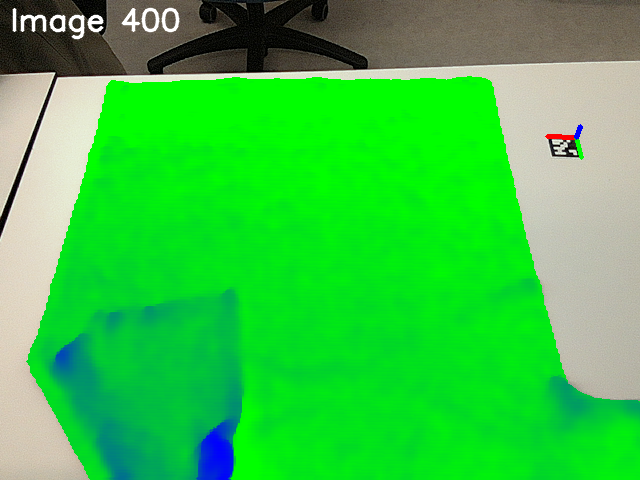V: (181, 271, 251, 337)
